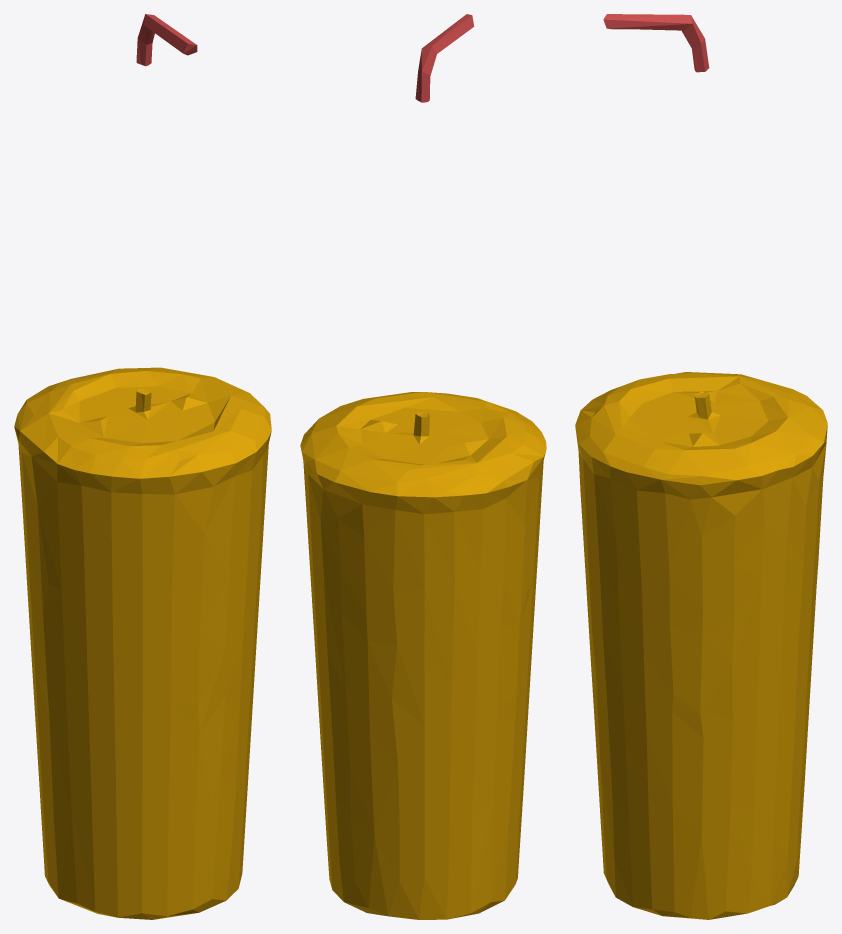
The model's file is fractured_79_2pcs_transformed.glb.
3 views of the same model, side by side, from view 1: azimuth 30°, elevation 25°; view 2: azimuth 150°, elevation 25°; view 3: azimuth 270°, elevation 25° (orthographic). The views are drawn at different scales.
Parts seen in each view (by area): view 1: piece_0.obj, piece_1.obj; view 2: piece_0.obj, piece_1.obj; view 3: piece_0.obj, piece_1.obj.
Boxes of the visible parts, x1,y1,x2,y2 form: piece_0.obj: (14,367,271,919); piece_1.obj: (136,14,197,66); piece_0.obj: (300,392,546,919); piece_1.obj: (415,14,474,102); piece_0.obj: (575,372,827,919); piece_1.obj: (603,14,709,72).
Bounding box in the file's own units: 0.4212 × 1.6 × 0.4216.
